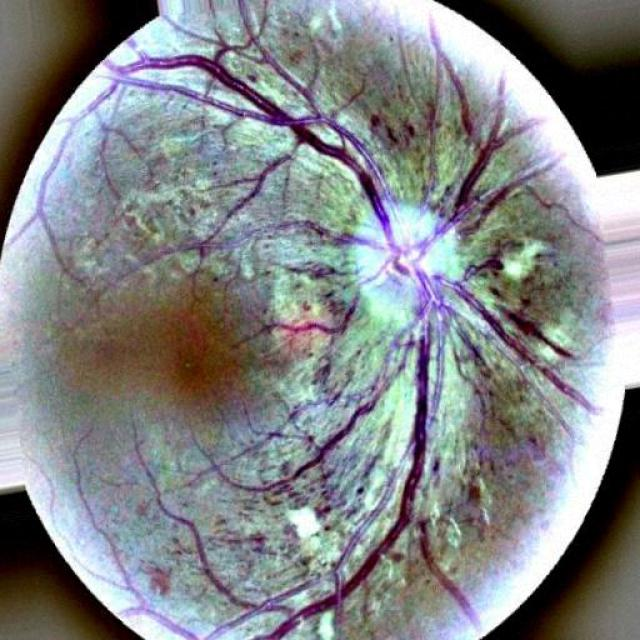Macula: (168, 302, 235, 395)
